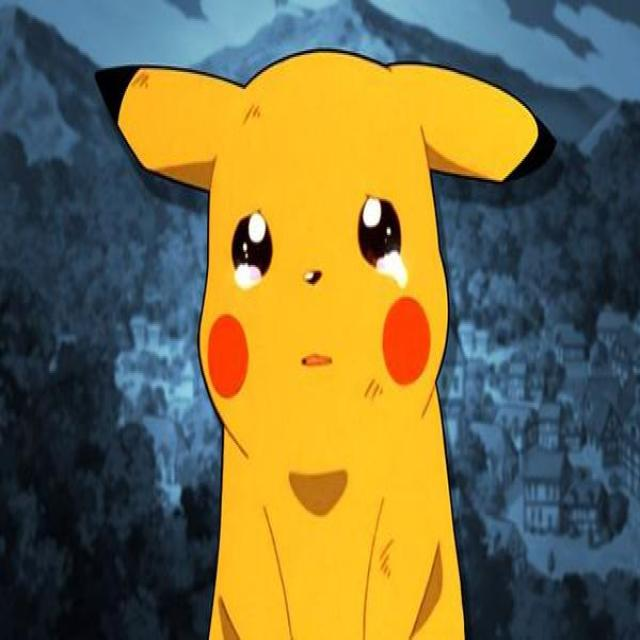pikachu: (94, 53, 553, 639)
